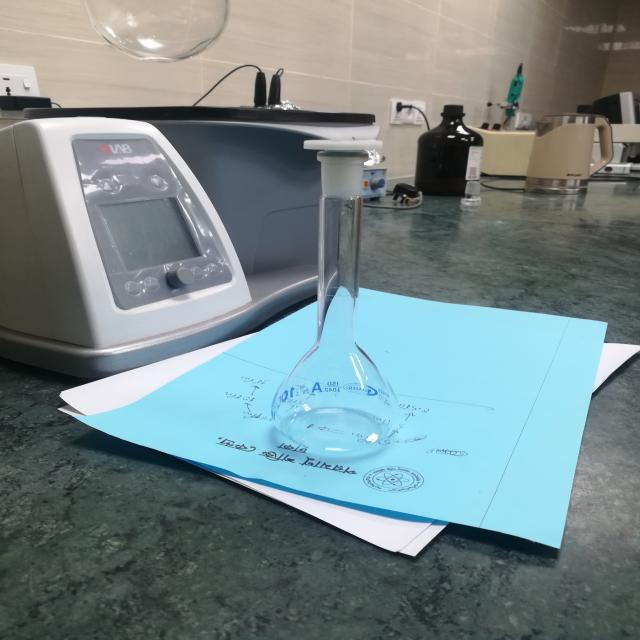Volumetric_Flask: (228, 100, 442, 475)
